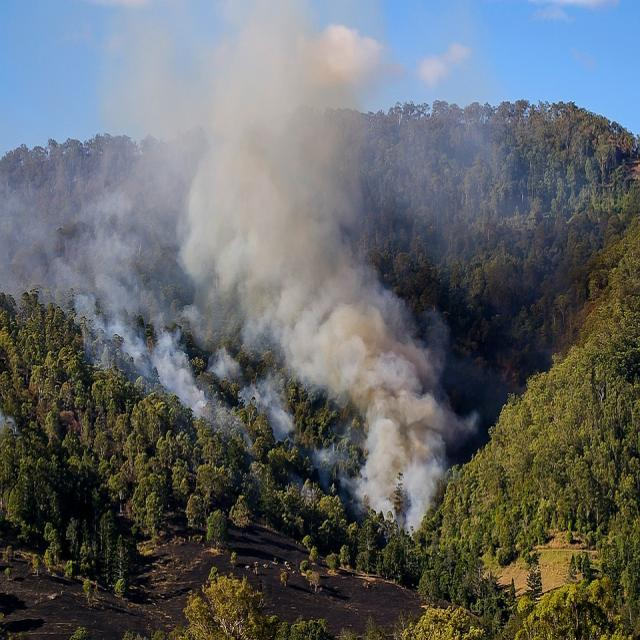Smoke: (145, 0, 480, 558)
